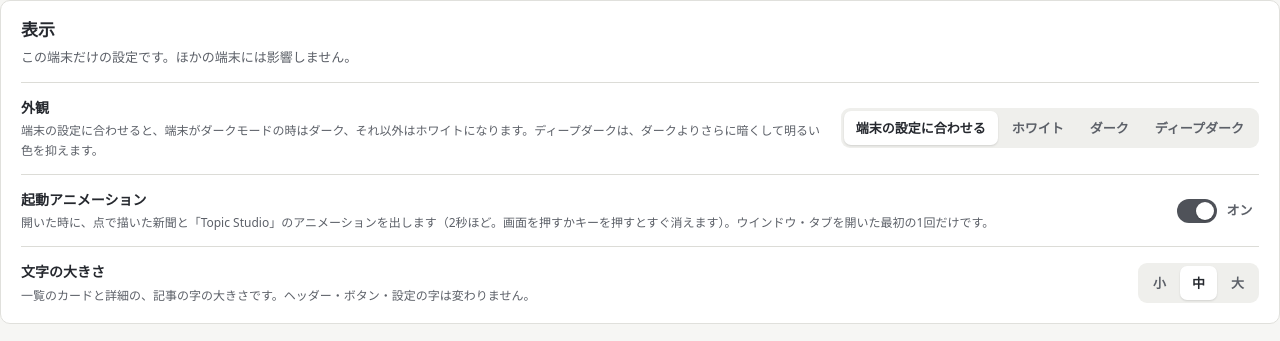
Test: DisplaySettings › 起動アニメーションは初めオン。切り替えるとオフになり、保存する
The image size is (1280, 341).
Later steps or results of the test are not shown.
Expected: the checkbox with test id "launch-switch" reads "オン", left=1226, top=201, right=1252, bottom=219
What coordinates should you click on to do the following:
click the switch named "起動アニメーション"
I would click on:
 (1218, 211)
Its box is left=1176, top=194, right=1259, bottom=228.
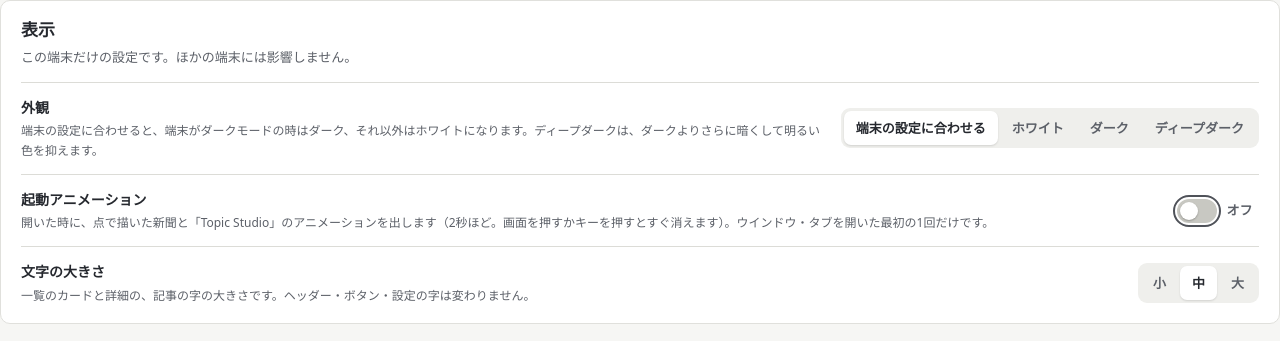
Result: the switch named "起動アニメーション" is not checked at left=1176, top=194, right=1259, bottom=228
Result: the checkbox with test id "launch-switch" reads "オフ" at left=1226, top=201, right=1252, bottom=219
